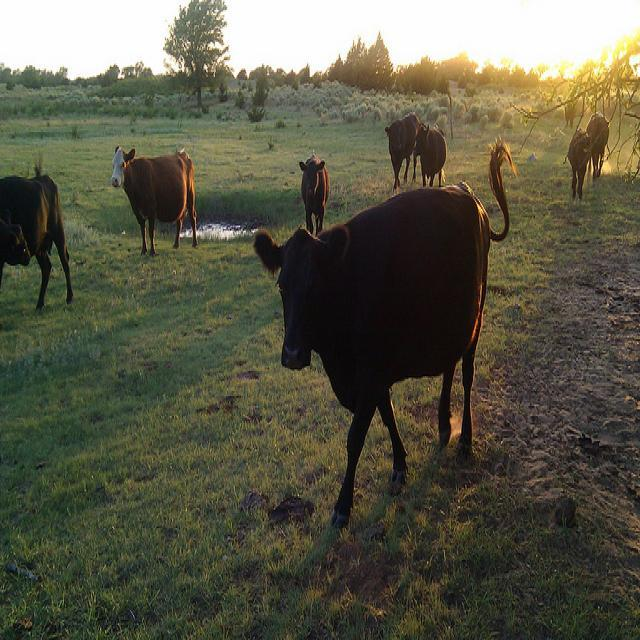cow: (251, 130, 519, 528), (105, 140, 199, 251), (0, 172, 71, 308), (297, 147, 328, 231), (385, 110, 417, 184), (413, 117, 445, 184), (567, 126, 591, 198), (584, 107, 608, 175)
